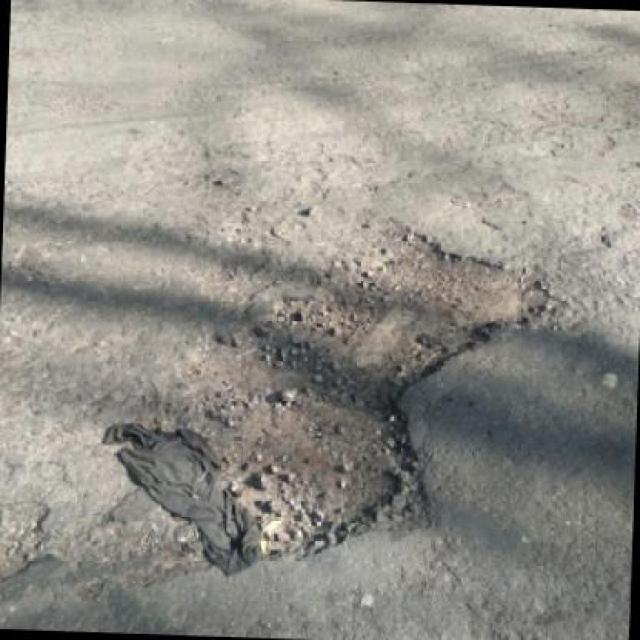pothole1: (153, 210, 561, 578)
